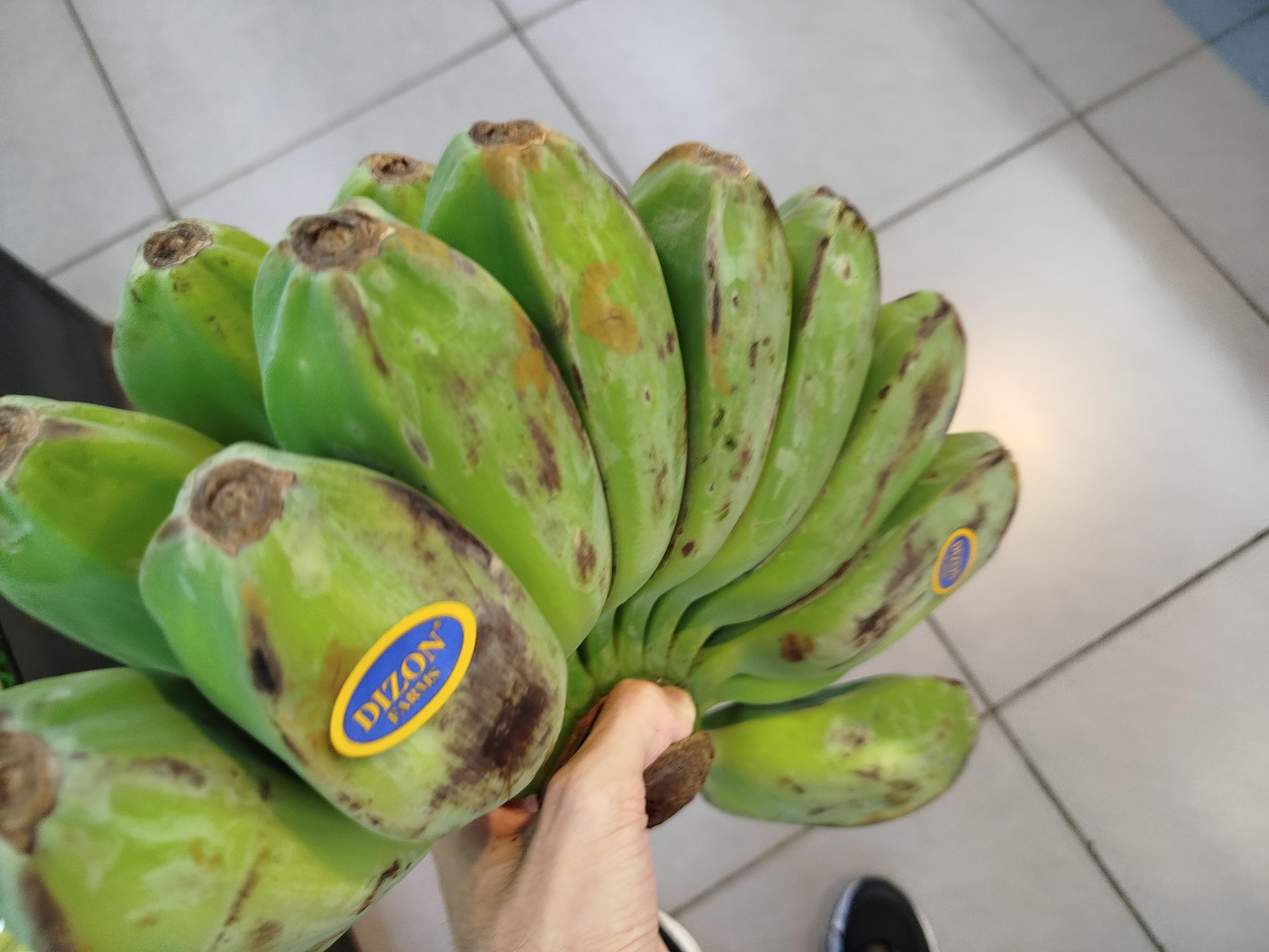underripe: (0, 121, 1019, 952)
